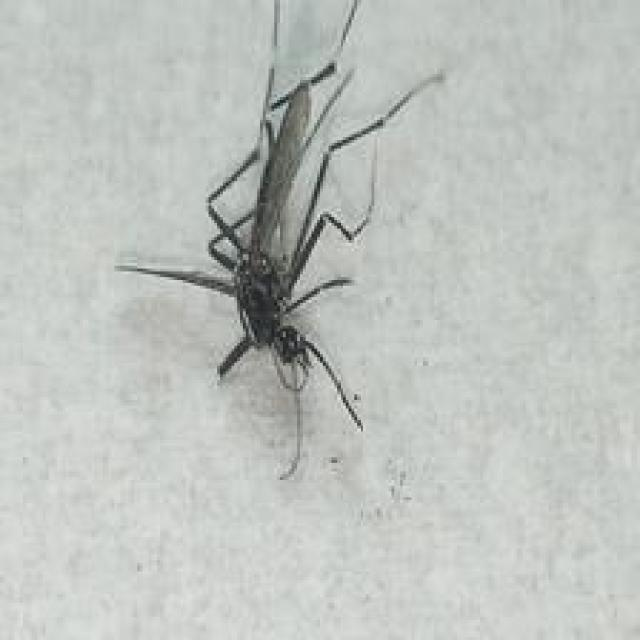Aedes albopictus: (113, 0, 447, 480)
